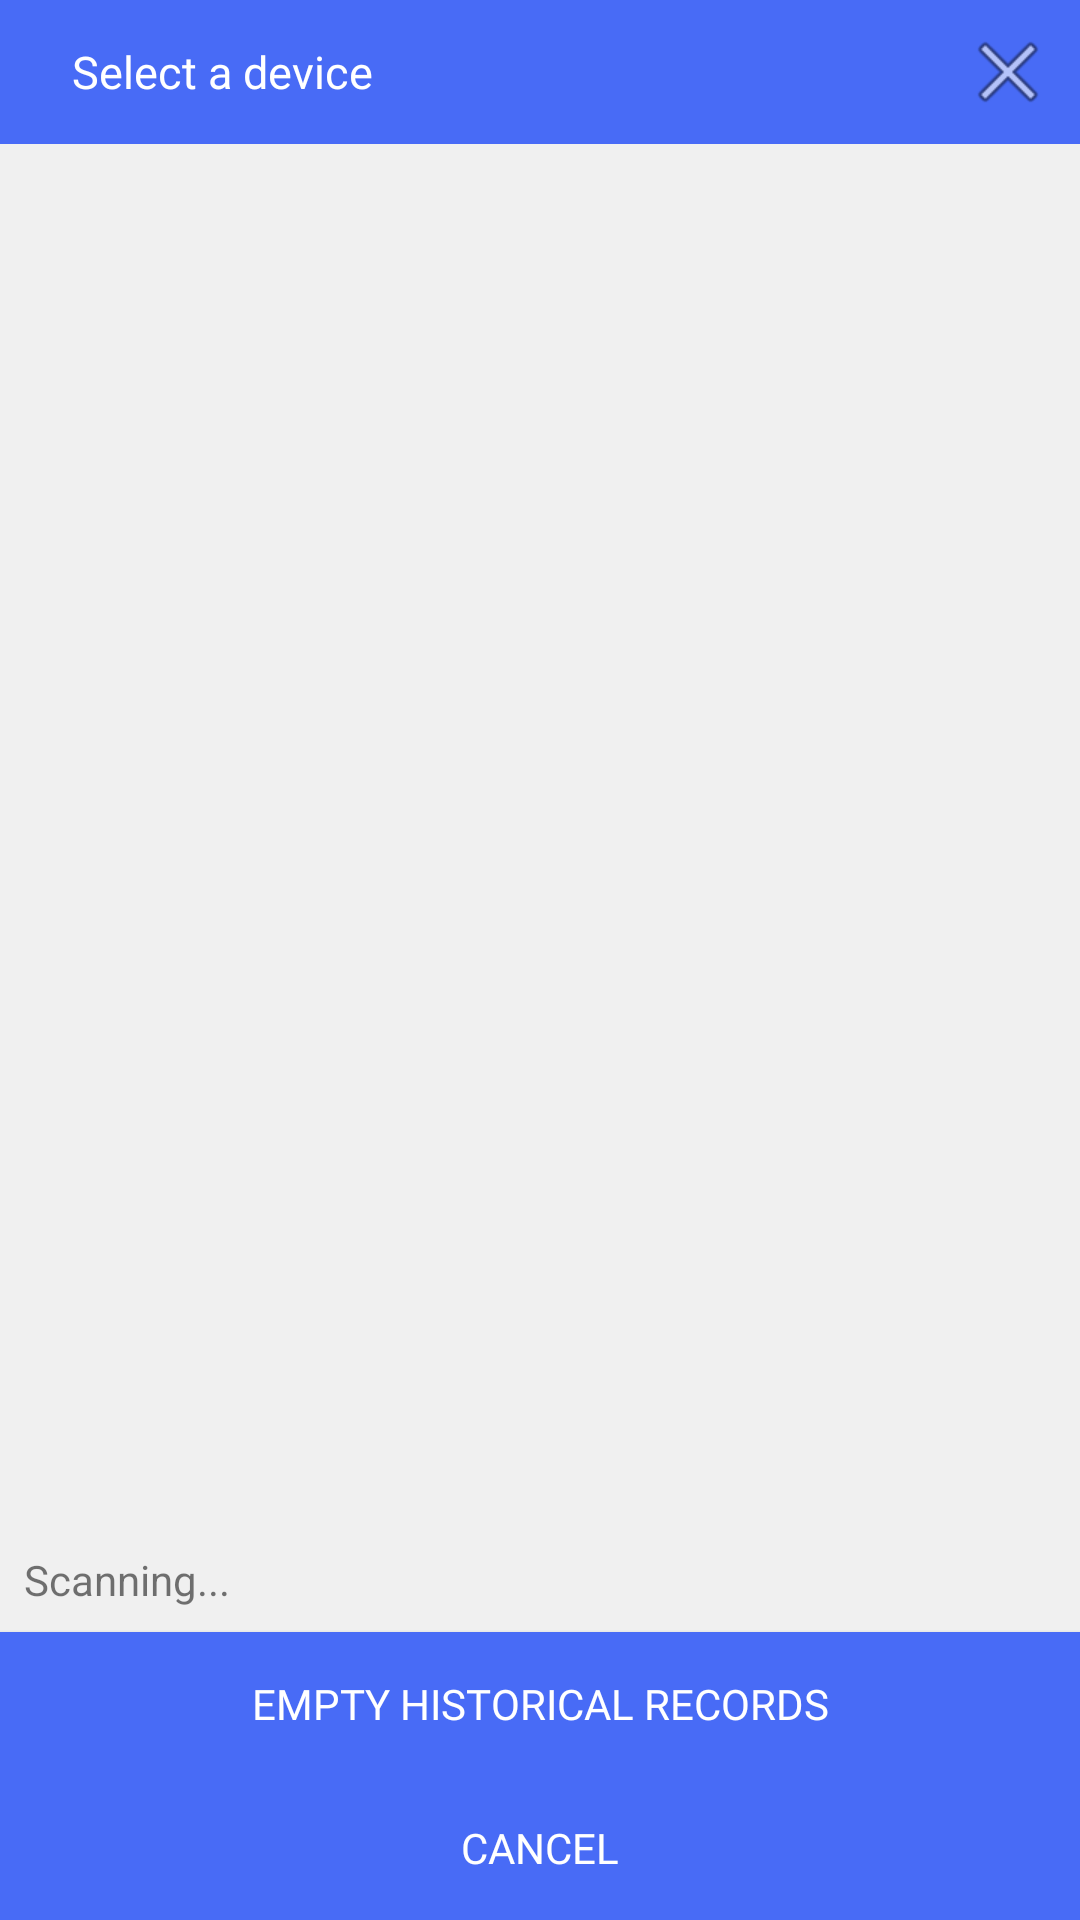

Where to tap for icons on this 1080*1920 app screen, as [x,y]:
close clear cancel: [1008,72]
